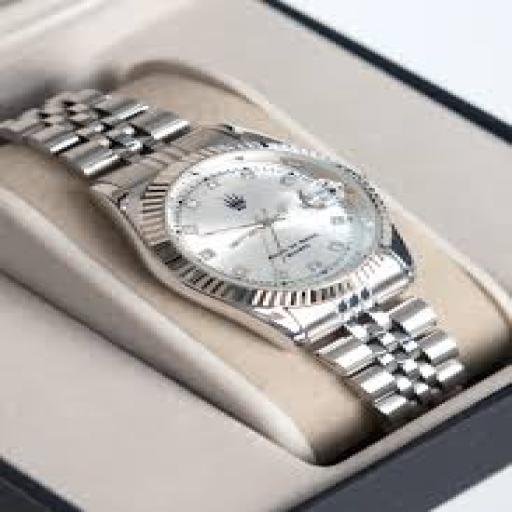KolSaati: (15, 66, 494, 436)
